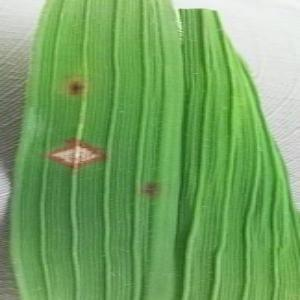Rice_Blast: (34, 130, 111, 184)
